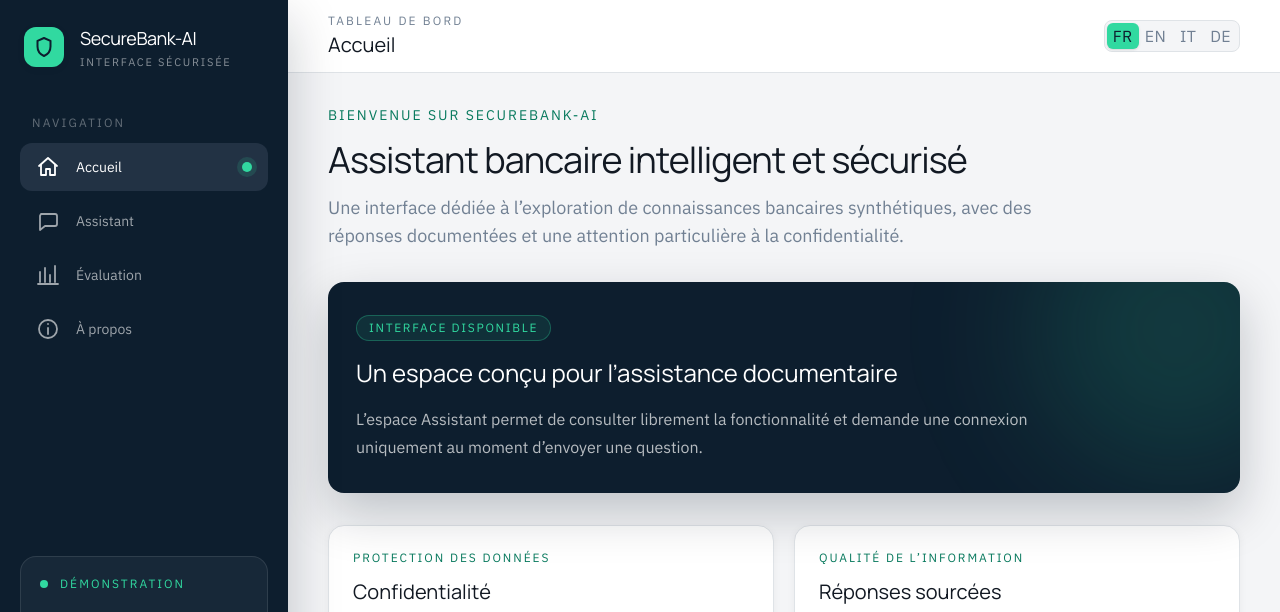
Test case: App navigation › checks the optional session without blocking public navigation
The image size is (1280, 612).
Click the link "Assistant": click(85, 220) [36,208,134,232]
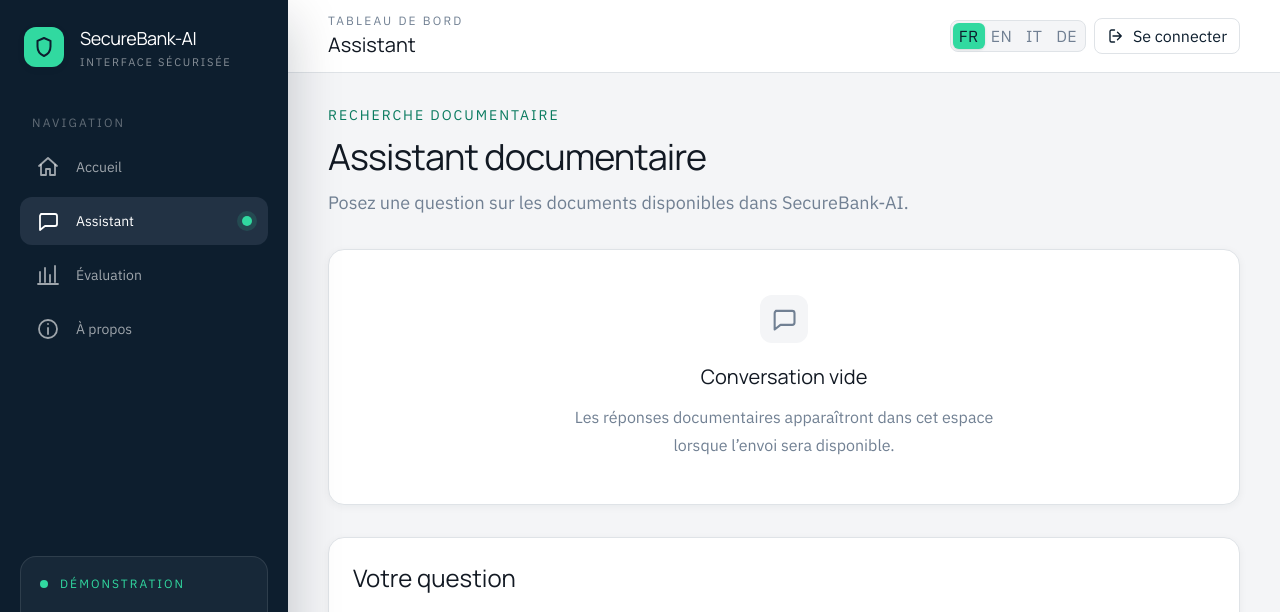
Check: the heading "Assistant documentaire" is shown, box [328,132,706,181]
